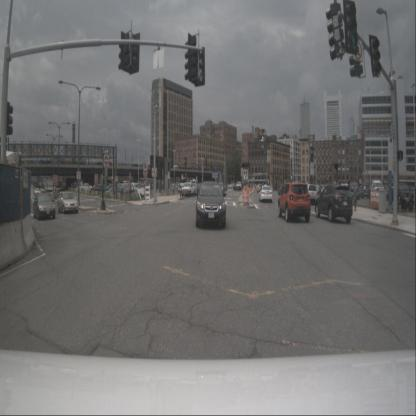cone: (243, 189, 250, 206), (242, 188, 246, 198)
